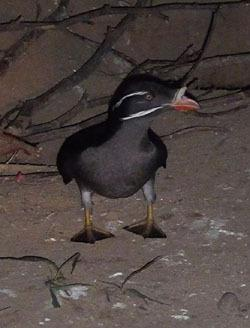008.Rhinoceros_Auklet: (55, 72, 204, 244)
